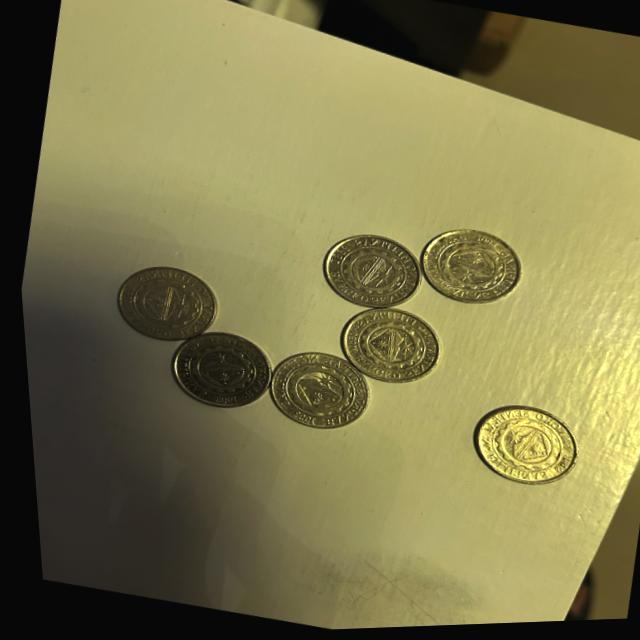1_Old_Back: (165, 336, 263, 408), (473, 410, 567, 483), (268, 355, 356, 430), (117, 267, 206, 340), (327, 239, 413, 309), (427, 234, 512, 303), (344, 312, 426, 382)
